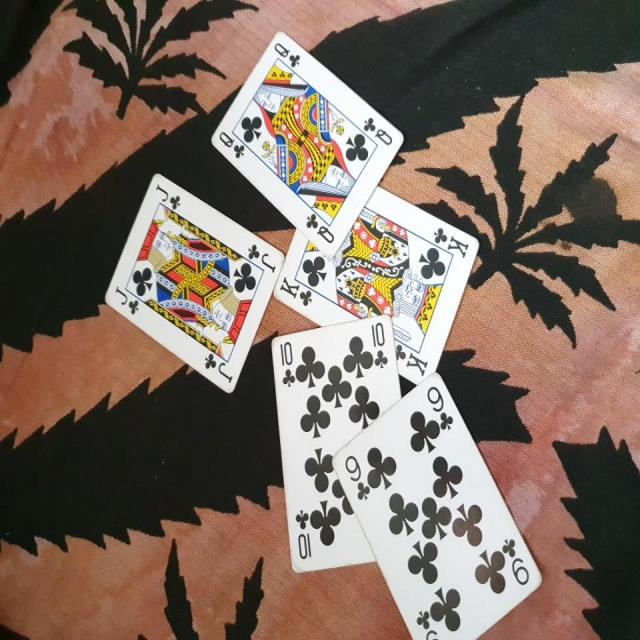10 Trefoils: (270, 309, 404, 578)
9 Trefoils: (329, 371, 543, 640)
J Trefoils: (105, 172, 285, 394)
K Trefoils: (274, 185, 482, 387)
Q Trefoils: (207, 27, 406, 260)
